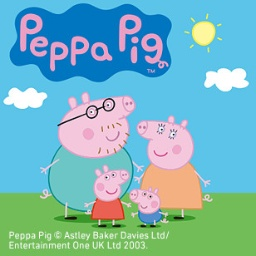Peppa: (85, 166, 131, 228)
